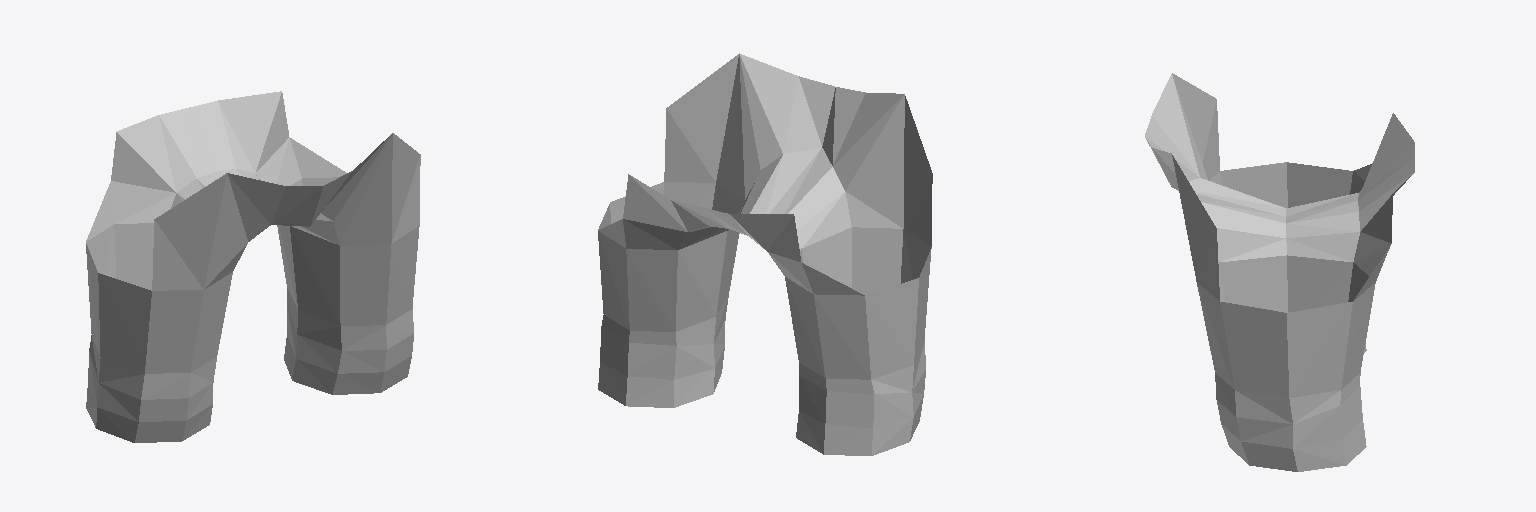
File: piernas.obj
3 renders of one model, left to right at view 1: azimuth 30°, elevation 25°; view 2: azimuth 150°, elevation 25°; view 3: azimuth 270°, elevation 25°, orthographic.
Parts seen in each view (by area): view 1: piernas; view 2: piernas; view 3: piernas.
Part boxes in pixels (x1,y1,x2,y2): piernas: (86, 91, 420, 442); piernas: (598, 53, 932, 455); piernas: (1145, 73, 1414, 471).
Size of the model in its own units: 1.38 by 1.22 by 1.05.